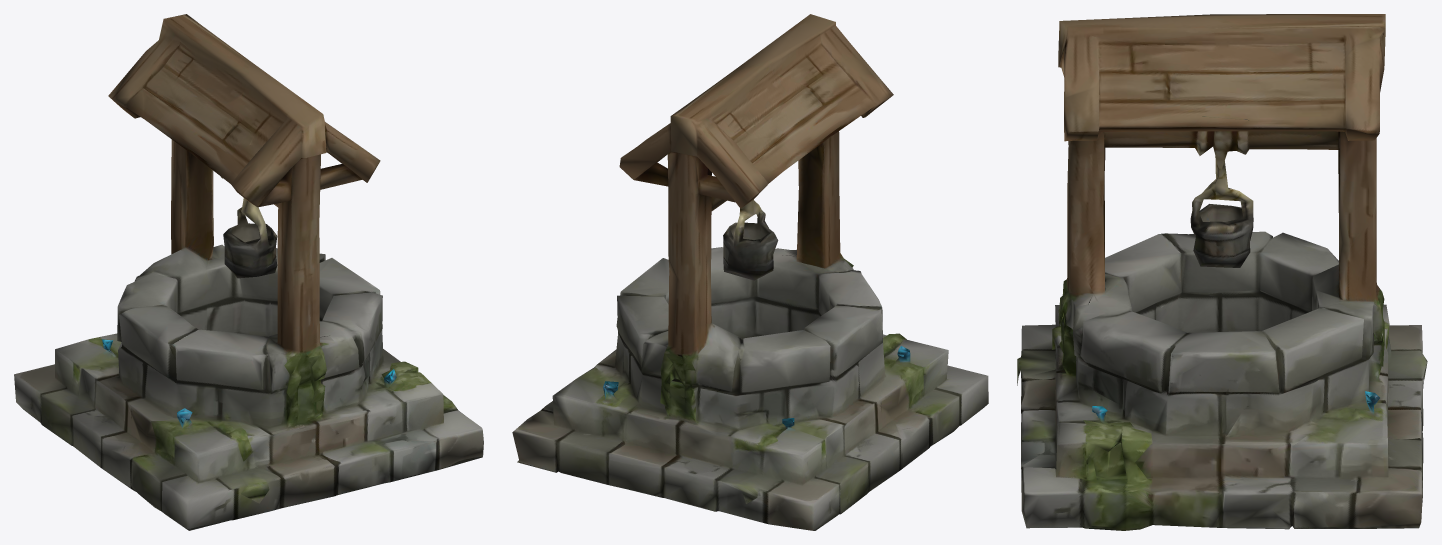
The model's file is wishing_well_odyssey.glb.
3 views of the same model, side by side, from view 1: azimuth 30°, elevation 25°; view 2: azimuth 150°, elevation 25°; view 3: azimuth 270°, elevation 25° (orthographic). The views are drawn at different scales.
Visible parts, largest first — view 1: Mesh::generatedModels/jzuEPaRZGeu4CkeWG0pK.gltf; view 2: Mesh::generatedModels/jzuEPaRZGeu4CkeWG0pK.gltf; view 3: Mesh::generatedModels/jzuEPaRZGeu4CkeWG0pK.gltf.
Part boxes in pixels (x1=…): Mesh::generatedModels/jzuEPaRZGeu4CkeWG0pK.gltf: x1=14, y1=14, x2=483, y2=530; Mesh::generatedModels/jzuEPaRZGeu4CkeWG0pK.gltf: x1=512, y1=14, x2=988, y2=530; Mesh::generatedModels/jzuEPaRZGeu4CkeWG0pK.gltf: x1=1017, y1=14, x2=1427, y2=530.
Size of the model in its own units: 0.8616 by 1 by 0.8749.
1 material, 1 textured.
